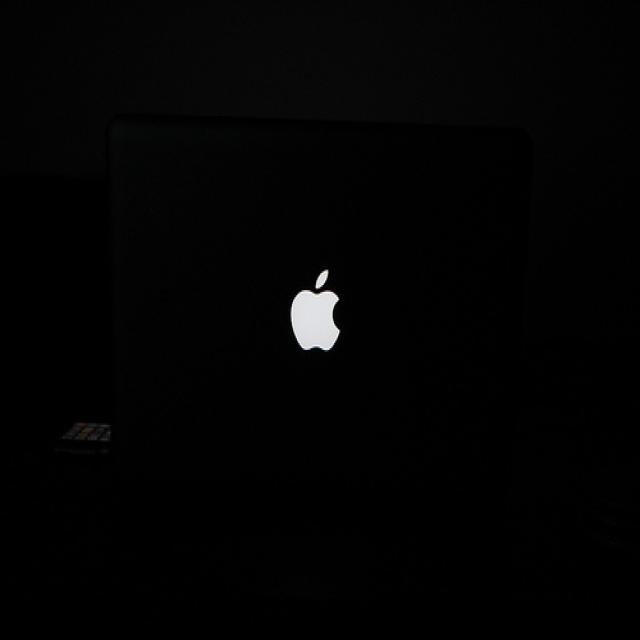apple: (285, 265, 351, 363)
